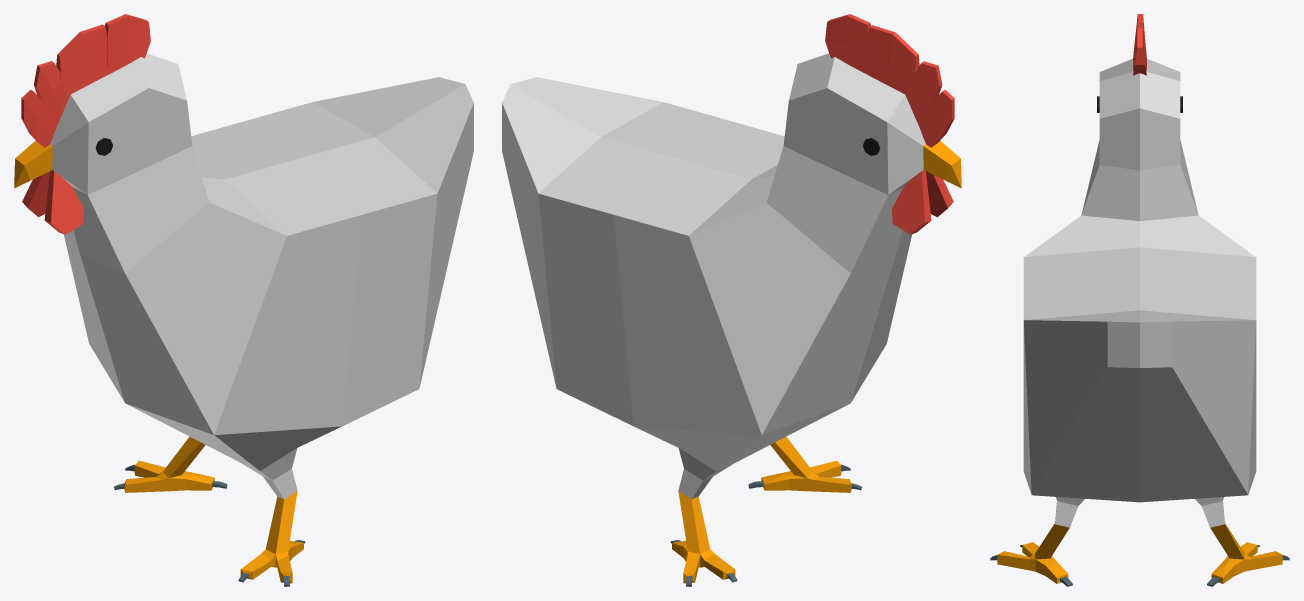
File: Chicken_01.glb
The picture shows the model from 3 angles, left to right: view 1: azimuth 30°, elevation 25°; view 2: azimuth 150°, elevation 25°; view 3: azimuth 270°, elevation 25°; orthographic projection. The views are drawn at different scales.
Visible parts, largest first — view 1: Node #3; view 2: Node #3; view 3: Node #3.
Part boxes in pixels (left/top/right/bottom): Node #3: left=14, top=14, right=473, bottom=586; Node #3: left=502, top=14, right=961, bottom=586; Node #3: left=990, top=14, right=1289, bottom=586.
Size of the model in its own units: 167 by 189 by 103.
